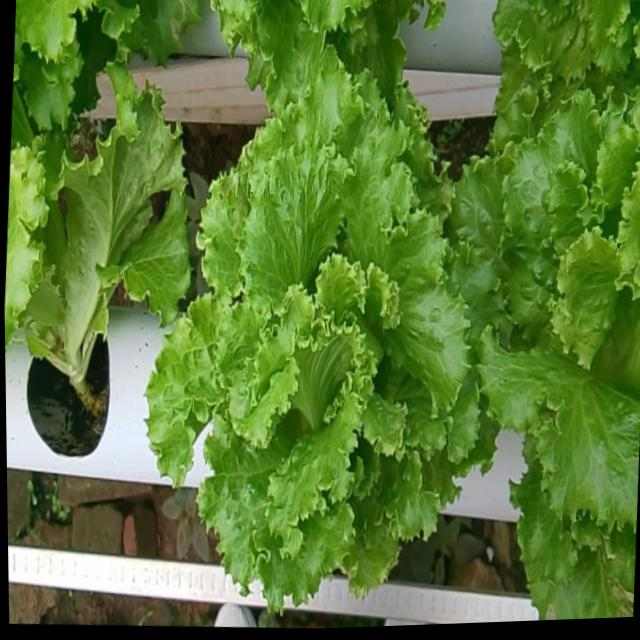Mature: (141, 69, 476, 607), (448, 93, 640, 537)
